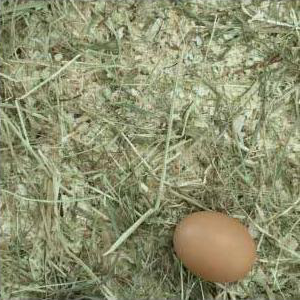egg: (173, 211, 257, 284)
